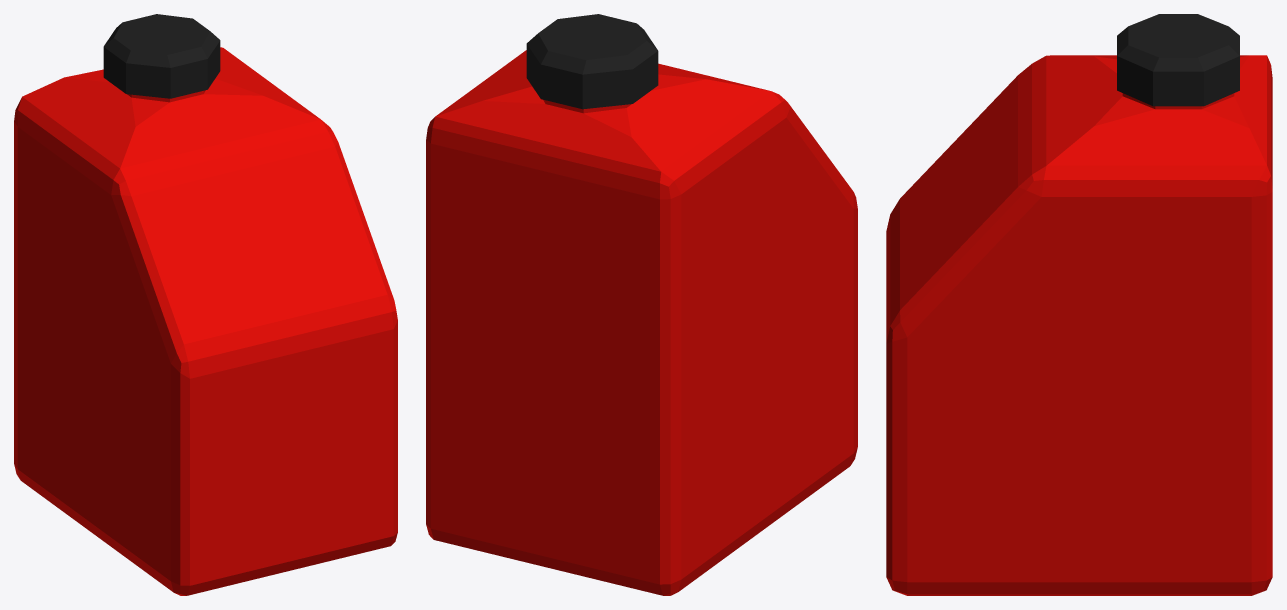
The model's file is JerryCan.glb.
The picture shows the model from 3 angles, left to right: view 1: azimuth 30°, elevation 25°; view 2: azimuth 150°, elevation 25°; view 3: azimuth 270°, elevation 25°; orthographic projection. The views are drawn at different scales.
Visible parts, largest first — view 1: Cube; view 2: Cube; view 3: Cube.
Boxes of the visible parts, box(x1,y1,x2,y2) form: Cube: box(14, 14, 397, 595); Cube: box(426, 14, 857, 595); Cube: box(886, 14, 1272, 595).
Bounding box in the file's own units: 0.48 × 0.9211 × 0.64.
